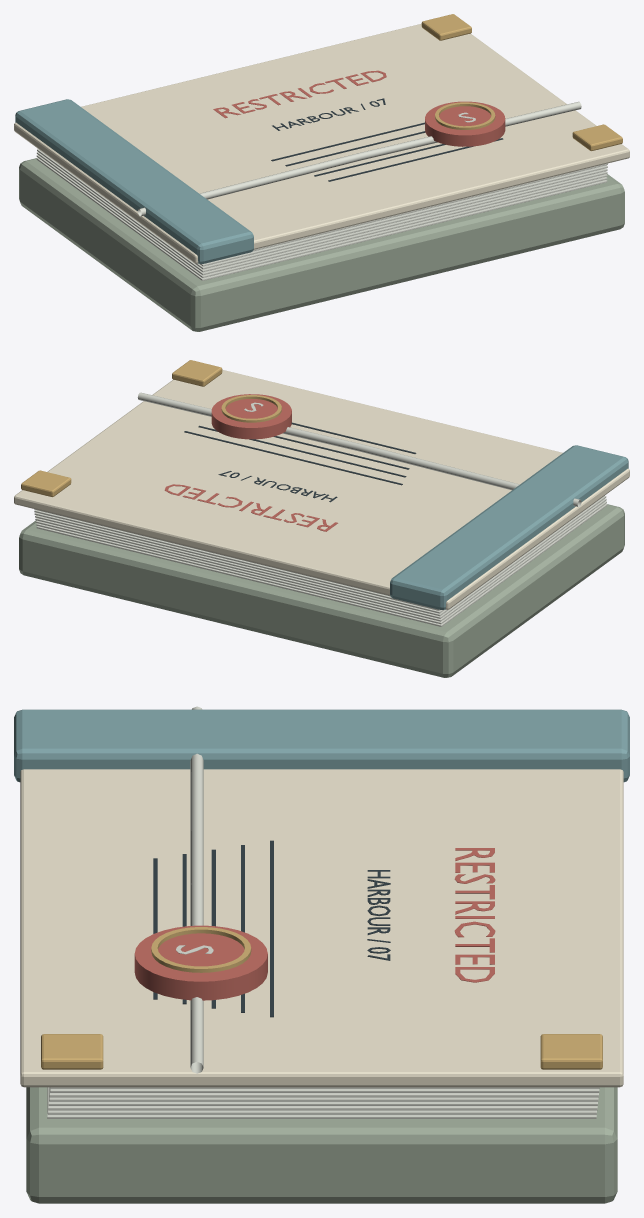
Rendered from loot_documents.glb.
The picture shows the model from 3 angles, top to bottom: view 1: azimuth 30°, elevation 25°; view 2: azimuth 150°, elevation 25°; view 3: azimuth 270°, elevation 25°; orthographic projection. The views are drawn at different scales.
Parts seen in each view (by area): view 1: loot_documents; view 2: loot_documents; view 3: loot_documents.
Boxes of the visible parts, x1,y1,x2,y2 form: loot_documents: (14, 14, 629, 331); loot_documents: (14, 360, 629, 677); loot_documents: (14, 706, 629, 1203).
Bounding box in the file's own units: 0.202 × 0.0455 × 0.148.
